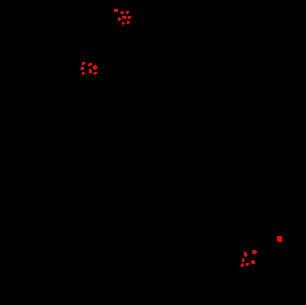Target: (277, 236, 282, 242), (93, 65, 98, 70), (252, 250, 257, 254), (251, 260, 255, 264), (122, 16, 127, 19), (244, 252, 247, 257), (114, 9, 118, 12), (118, 17, 121, 21), (88, 63, 92, 66), (89, 69, 92, 73), (93, 72, 97, 75), (241, 263, 244, 267), (121, 11, 124, 14), (126, 11, 129, 14), (128, 16, 131, 19), (127, 21, 130, 24), (122, 22, 125, 25), (82, 62, 85, 65), (81, 67, 84, 70), (82, 72, 85, 75), (246, 263, 249, 266), (242, 258, 244, 262)
